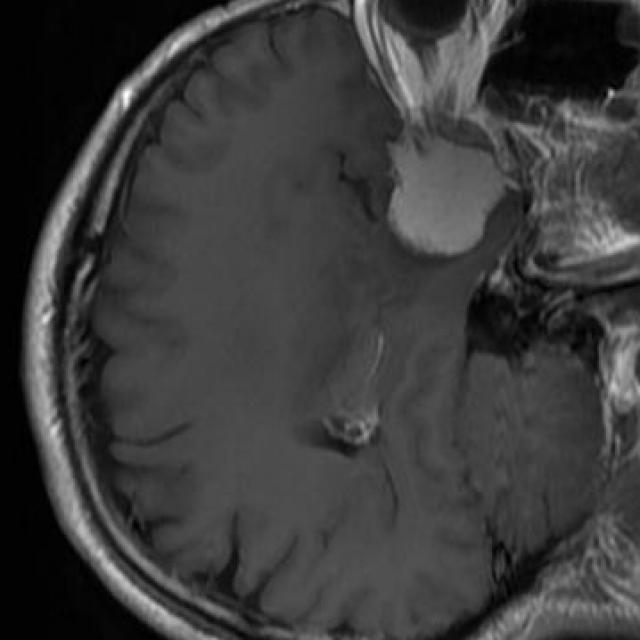meningioma: (389, 143, 503, 253)
